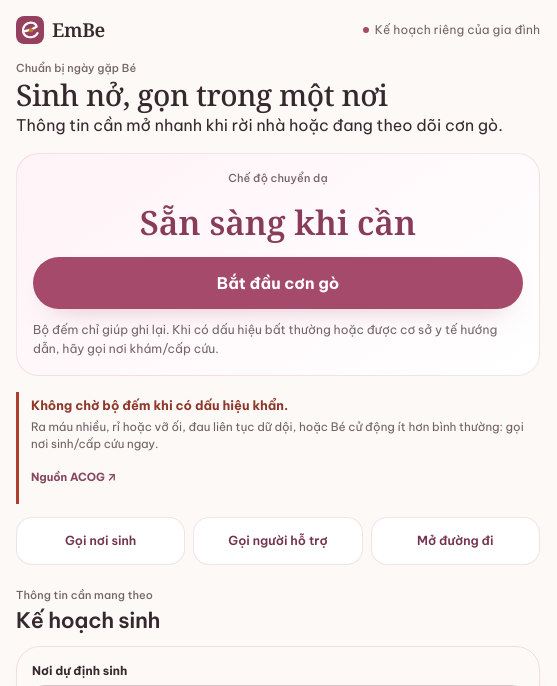
Test case: birth preparation page › keeps the local contraction history unchanged when the server cannot save
The width and height of the screenshot is (557, 686).
Click the button "Bắt đầu cơn gò": {"x": 278, "y": 283} [33,257,523,309]
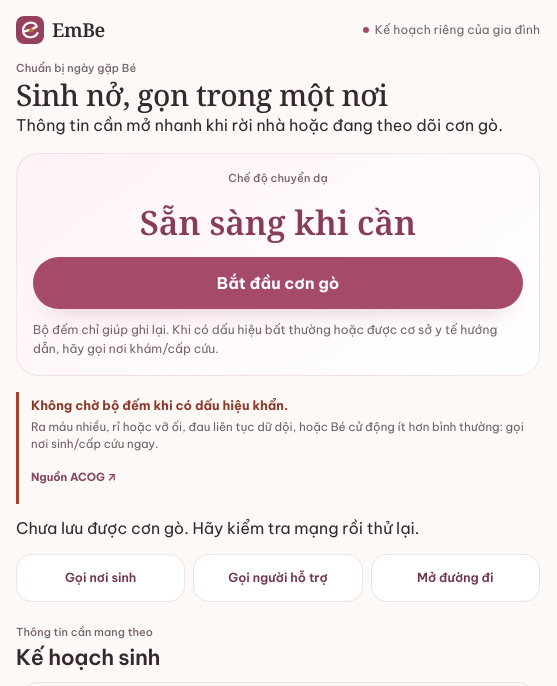
Check: the text "Chưa lưu được cơn gò. Hãy kiểm tra mạng rồi thử lại." is shown, box [16,518,419,538]
